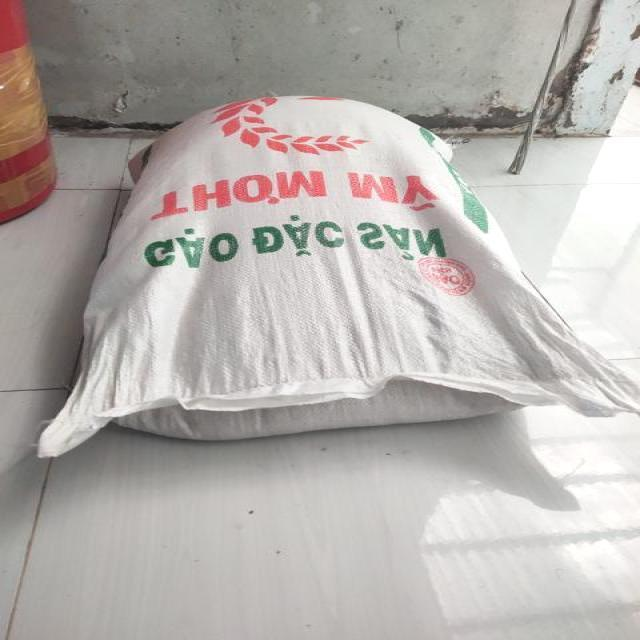gunny_bag: (40, 96, 639, 458)
